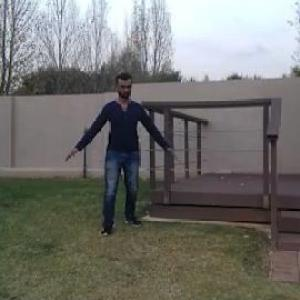land: (69, 61, 180, 252)
